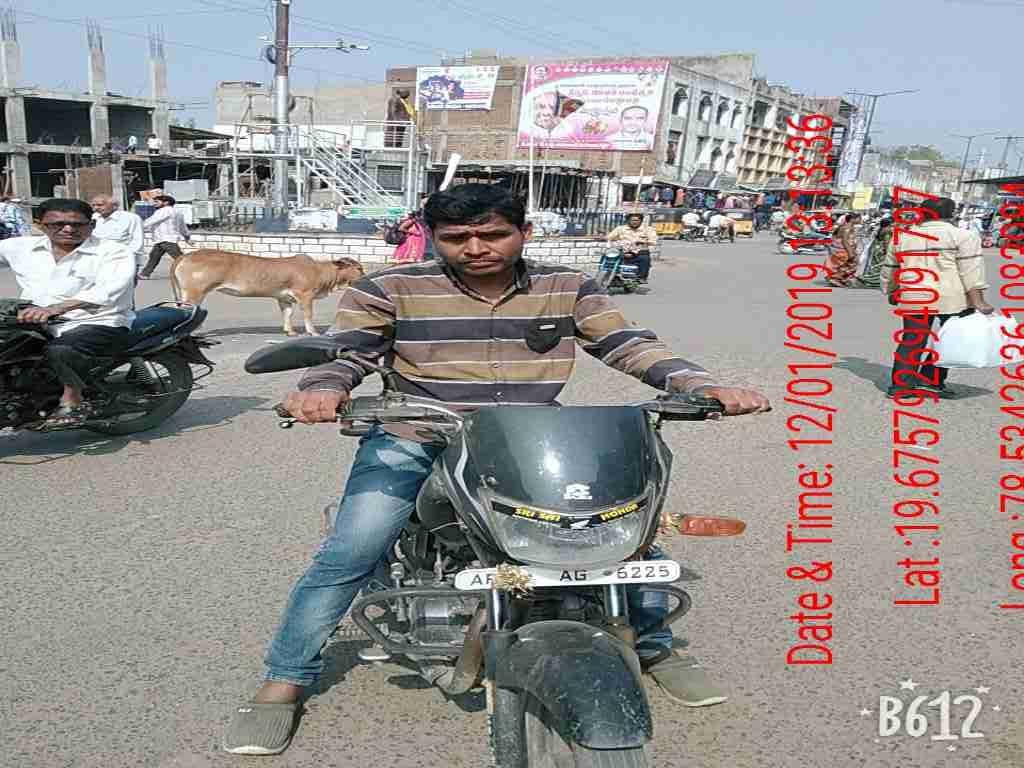plate: (449, 554, 688, 592)
